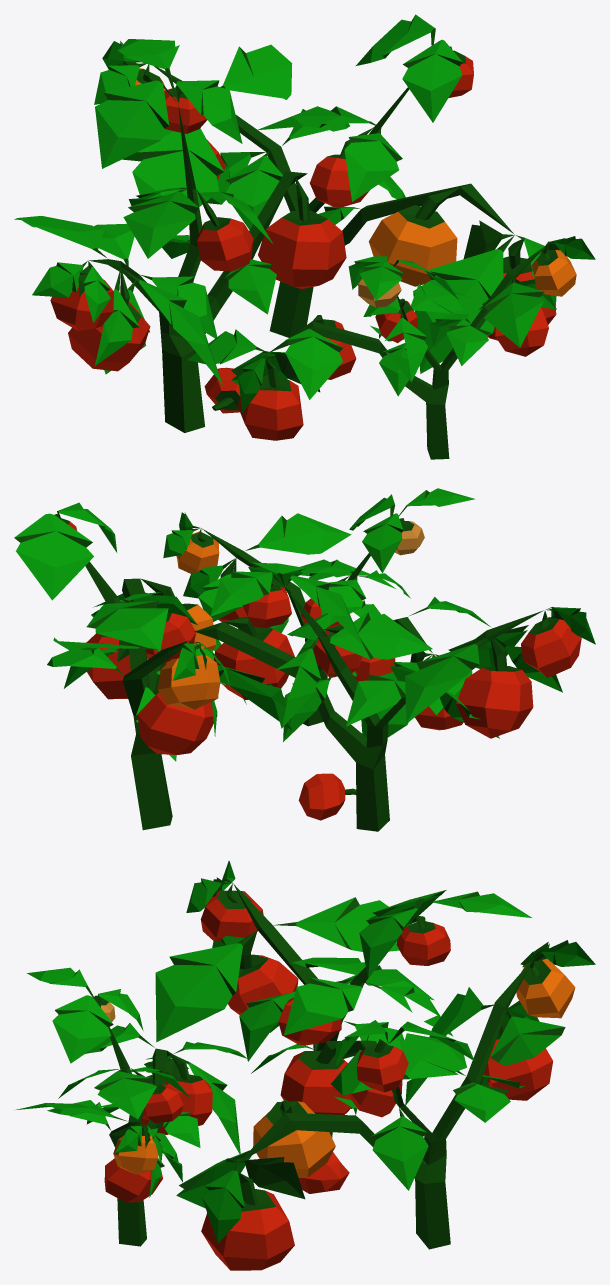
Rendered from tomato.glb.
3 views of the same model, one above another, from view 1: azimuth 30°, elevation 25°; view 2: azimuth 150°, elevation 25°; view 3: azimuth 270°, elevation 25° (orthographic). The views are drawn at different scales.
Visible parts, largest first — view 1: tomato; view 2: tomato; view 3: tomato.
Part boxes in pixels (box(x1,y1,x2,y2)): tomato: box(14, 14, 595, 459); tomato: box(14, 488, 595, 831); tomato: box(14, 861, 595, 1270).
Bounding box in the file's own units: 4.13 × 2.28 × 4.09.
